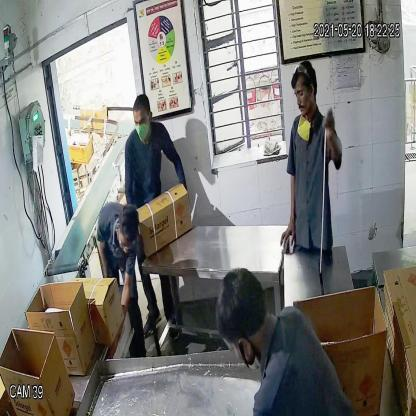no_goggles: (292, 84, 314, 105)
